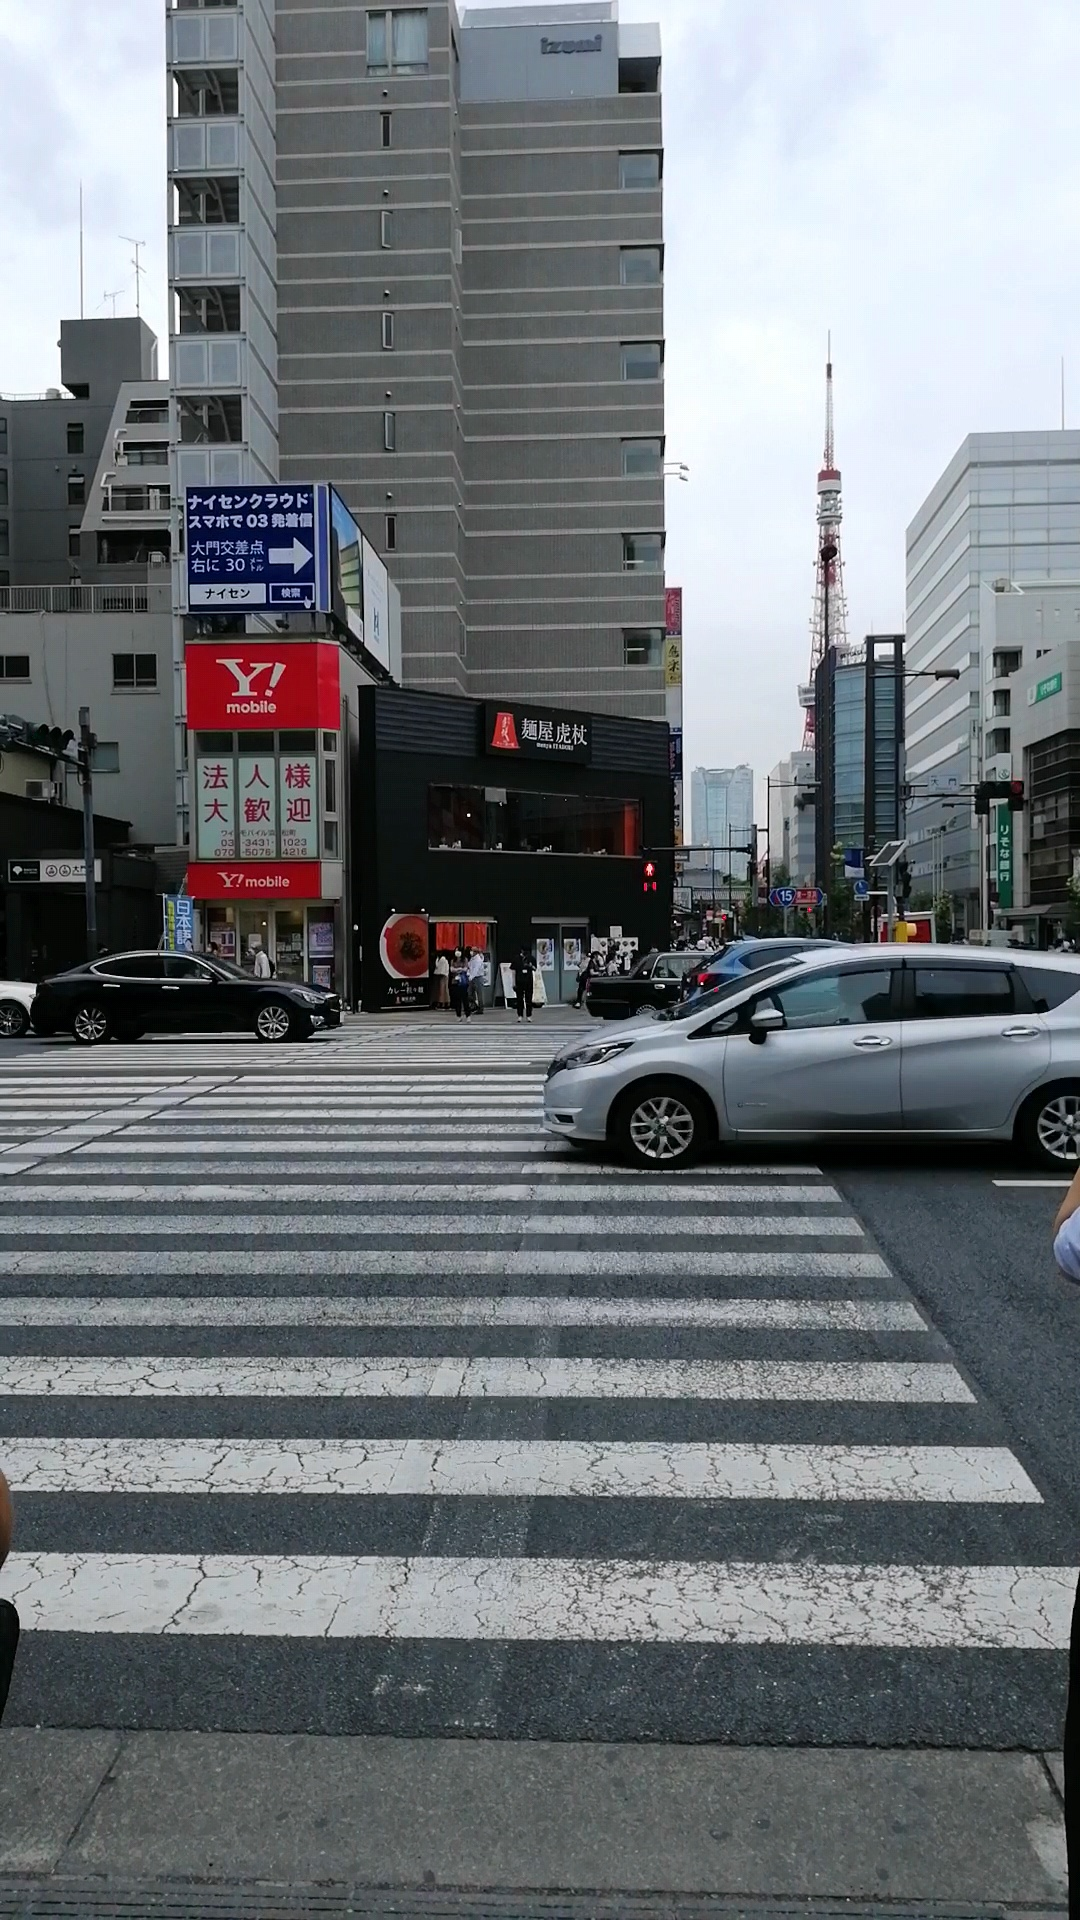red: (640, 860, 659, 898)
